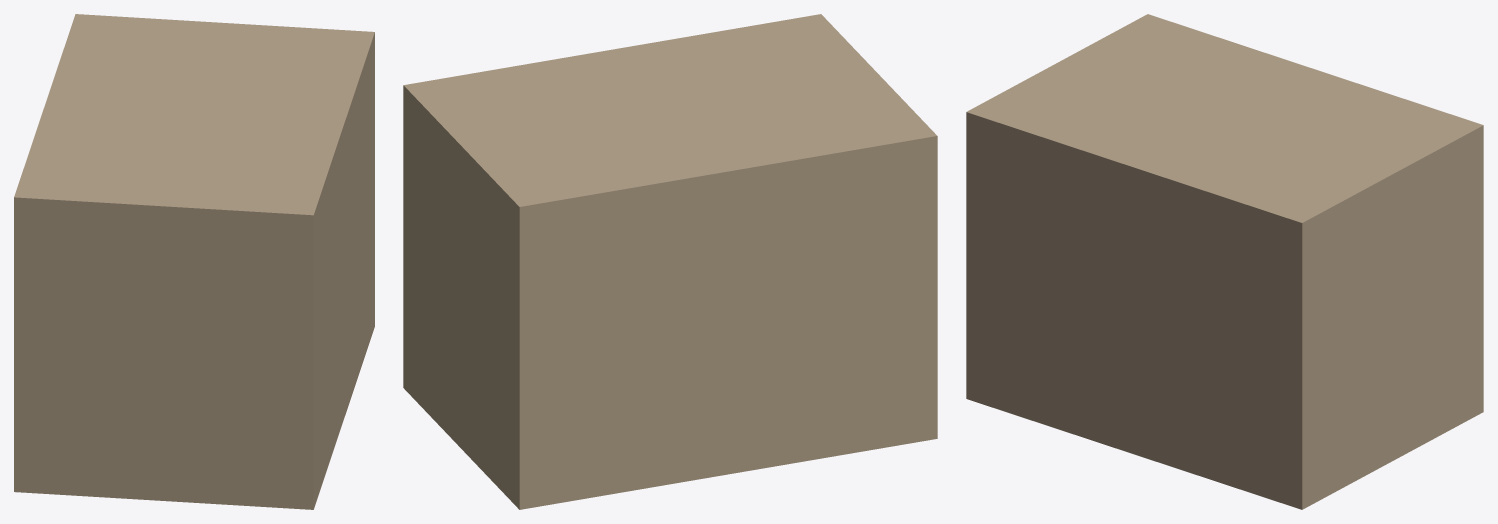
Rendered from bld_107639142.dae.
3 views of the same model, side by side, from view 1: azimuth 30°, elevation 25°; view 2: azimuth 150°, elevation 25°; view 3: azimuth 270°, elevation 25° (orthographic). The views are drawn at different scales.
Visible parts, largest first — view 1: bld_107639142; view 2: bld_107639142; view 3: bld_107639142.
Boxes of the visible parts, left/top/right/bottom form: bld_107639142: left=14, top=14, right=374, bottom=509; bld_107639142: left=403, top=14, right=937, bottom=509; bld_107639142: left=966, top=14, right=1483, bottom=509.
Size of the model in its own units: 12.51 by 13.08 by 8.
